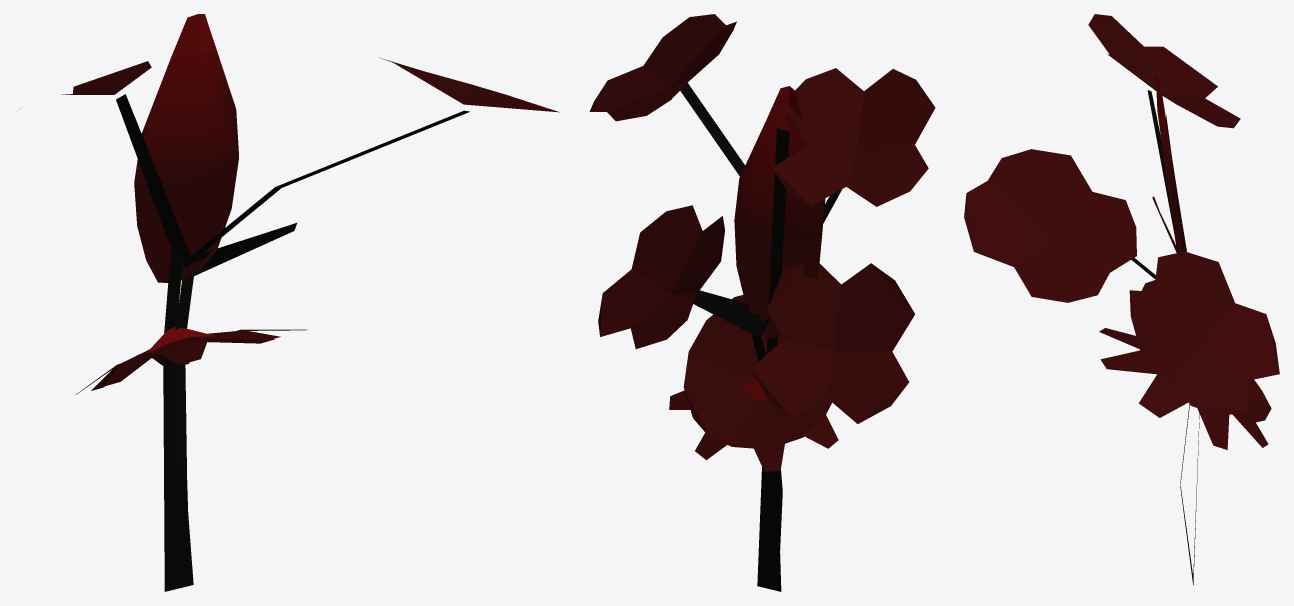
Rendered from flowers.fbx.
3 views of the same model, side by side, from view 1: azimuth 30°, elevation 25°; view 2: azimuth 150°, elevation 25°; view 3: azimuth 270°, elevation 25° (orthographic). The views are drawn at different scales.
Parts seen in each view (by area): view 1: flower_3, flower_2, flower_4; view 2: flower_2, flower_3, flower_1, flower_4; view 3: flower_2, flower_4, flower_3, flower_1.
Boxes of the visible parts, box(x1,y1,x2,y2) form: flower_3: box(134, 14, 238, 591); flower_2: box(20, 57, 559, 585); flower_4: box(75, 327, 307, 394); flower_2: box(589, 14, 935, 423); flower_3: box(734, 86, 825, 591); flower_1: box(683, 295, 832, 549); flower_4: box(669, 378, 838, 471); flower_2: box(964, 14, 1279, 485); flower_4: box(1099, 328, 1268, 449); flower_3: box(1156, 71, 1199, 584); flower_1: box(1141, 280, 1271, 584).
Size of the model in its own units: 28.32 by 35.3 by 19.3.
